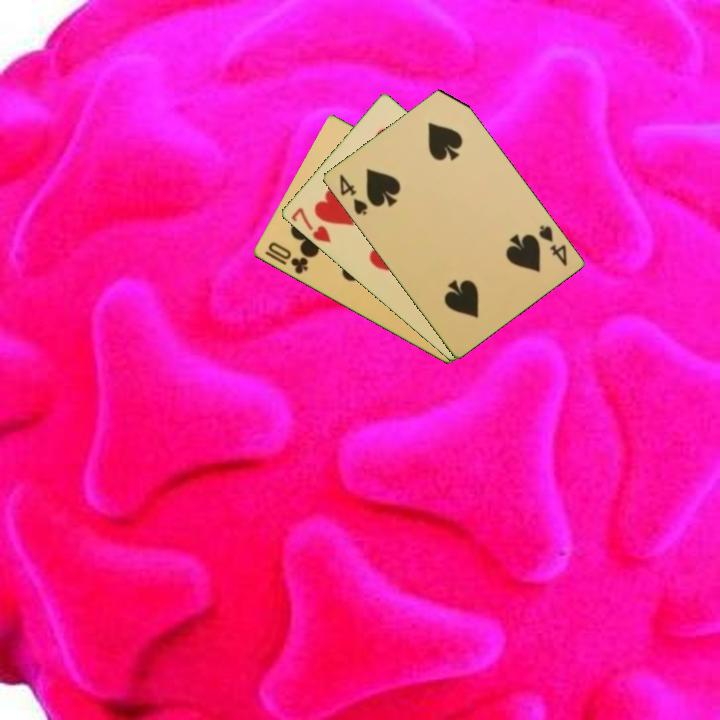10c: (264, 238, 311, 277)
4s: (534, 221, 570, 269), (335, 171, 370, 218)
7h: (287, 204, 333, 246)
